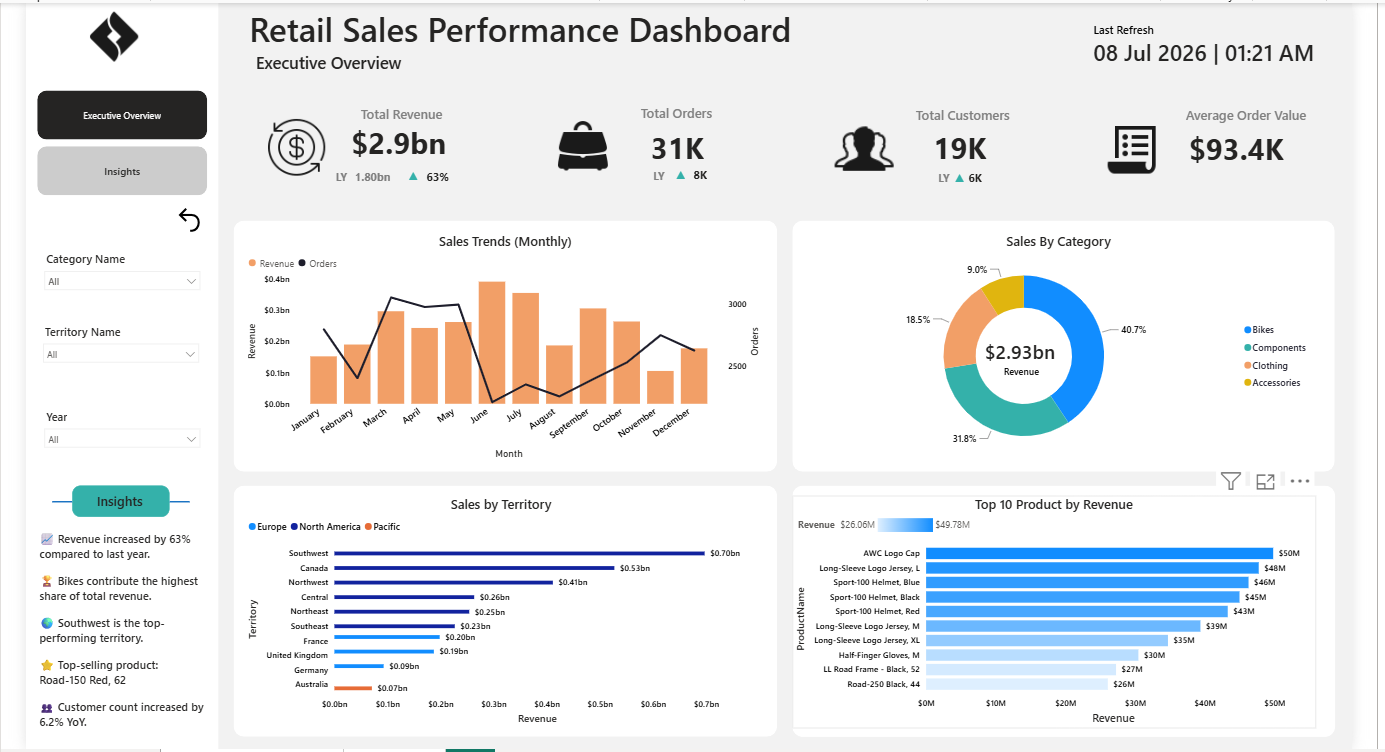

What the dashboard file says about the page in this screenshot:
{"tool":"powerbi","page":{"name":"Executive Overview","canvas":[1920,1080],"ordinal":0},"visuals":[{"type":"shape","box":[1109.4,697.8,786.3,364.3],"z":0},{"type":"shape","box":[702.5,121.2,385,179.2],"z":1000},{"type":"shape","box":[0,0,278.7,1080.4],"z":2000},{"type":"image","box":[68.8,12.7,117.6,72.4],"z":3000},{"type":"textbox","box":[300.4,0,830.6,85.1],"z":4000},{"type":"shape","box":[300.4,121.2,380,179.2],"z":5000},{"type":"cardVisual","fields":{"Data":["gold vw_Customers.Total Orders"]},"box":[829.5,163.6,229.8,88.7],"z":6000},{"type":"textbox","box":[885.6,141.9,143,43.4],"z":7000},{"type":"cardVisual","fields":{"Data":["DimDate.Sales_Icon"]},"box":[911.3,219.3,72.4,57.9],"z":8000},{"type":"cardVisual","fields":{"Data":["DimDate.Orders LY"]},"box":[933.1,215.7,85.1,63.3],"z":9000},{"type":"textbox","box":[902.3,233.8,34.4,43.4],"z":10000},{"type":"shape","box":[1109.5,121.2,385,179.2],"z":11000},{"type":"shape","box":[1516.5,121.2,385,179.2],"z":12000},{"type":"cardVisual","fields":{"Data":["gold vw_Customers.Total Revenue"]},"box":[424.5,156,229.8,88.7],"z":13000},{"type":"textbox","box":[479.6,143,143,43.4],"z":14000},{"type":"cardVisual","fields":{"Data":["DimDate.Sales YoY %"]},"box":[550.5,208.8,92.3,83.2],"z":15000},{"type":"cardVisual","fields":{"Data":["DimDate.Sales_Icon"]},"box":[525.1,221.5,72.4,57.9],"z":16000},{"type":"cardVisual","fields":{"Data":["DimDate.Sales LY"]},"box":[443.7,214.2,117.6,72.4],"z":17000},{"type":"textbox","box":[443.7,235.9,34.4,43.4],"z":18000},{"type":"cardVisual","fields":{"Data":["gold vw_Customers.Total Customers"]},"box":[1237.7,163.5,229.8,88.7],"z":19000},{"type":"textbox","box":[1283,144.8,150.2,61.5],"z":20000},{"type":"cardVisual","fields":{"Data":["DimDate.Customers LY"]},"box":[1314.9,215.3,117.6,72.4],"z":21000},{"type":"textbox","box":[1315.6,237.1,36.2,43.4],"z":22000},{"type":"cardVisual","fields":{"Data":["gold vw_Customers.Average Order Value"]},"box":[1637.2,164.9,229.8,88.7],"z":23000},{"type":"textbox","box":[1673.6,144,193.6,59.7],"z":24000},{"type":"cardVisual","fields":{"Data":["DimDate.customer_Icon"]},"box":[1314.9,222.6,72.4,57.9],"z":25000},{"type":"image","box":[340.2,166.5,103.2,85.1],"z":26000},{"type":"image","box":[754.6,168.3,103.2,85.1],"z":27000},{"type":"image","box":[1161.8,170.1,103.2,85.1],"z":28000},{"type":"image","box":[1549.1,170.1,103.2,85.1],"z":29000},{"type":"shape","box":[300.4,314.9,787.2,363.7],"z":30000},{"type":"shape","box":[1109.3,314.9,785.4,363.7],"z":31000},{"type":"shape","box":[300.4,698.5,787.2,363.7],"z":32000},{"type":"lineStackedColumnComboChart","title":"Sales Trends (Monthly)","fields":{"Y":["gold vw_Customers.Total Revenue"],"Y2":["gold vw_Customers.Total Orders"],"Category":["DimDate.Month"]},"box":[316.7,331.2,754.6,334.8],"z":33000},{"type":"donutChart","title":"Sales By Category","fields":{"Y":["gold vw_Customers.Total Revenue"],"Category":["gold vw_Products.CategoryName"]},"box":[1122,331.2,745.6,334.8],"z":34000},{"type":"clusteredBarChart","title":"Sales by Territory","fields":{"Y":["gold vw_Customers.Total Revenue"],"Series":["gold vw_Territory.Group"],"Category":["gold vw_Territory.TerritoryName"]},"box":[316.7,713,742,336.6],"z":35000},{"type":"clusteredBarChart","title":"Top 10 Product by Revenue","fields":{"Y":["gold vw_Customers.Total Revenue"],"Category":["gold vw_Products.ProductName"]},"box":[1109.4,712.2,757.5,337.6],"z":36000},{"type":"cardVisual","fields":{"Data":["gold vw_Customers.Total Revenue"]},"box":[1359.1,466.9,164.7,92.3],"z":37000},{"type":"slicer","fields":{"Values":["gold vw_Products.CategoryName"]},"box":[16.3,354.7,246.1,70.6],"z":38000},{"type":"slicer","fields":{"Values":["gold vw_Territory.TerritoryName"]},"box":[14.5,459.7,246.1,76],"z":39000},{"type":"pageNavigator","box":[16.3,126.7,246.1,153.8],"z":40000},{"type":"slicer","fields":{"Values":["DimDate.Year"]},"box":[16.3,582.7,246.1,83.2],"z":41000},{"type":"textbox","box":[327.5,65.1,300.4,56.1],"z":42000},{"type":"textbox","box":[14.5,760.1,247.9,302.2],"z":43000},{"type":"textbox","box":[67,698.5,141.2,45.2],"z":44000},{"type":"shape","box":[38,678.6,29,86.9],"z":45000},{"type":"shape","box":[208.1,678.6,29,86.9],"z":46000},{"type":"actionButton","box":[209.9,291.4,52.5,45.2],"z":47000},{"type":"cardVisual","fields":{"Data":["Min(Last Refresh.Last Refresh)"]},"box":[1516.5,12.7,378.2,94.1],"z":48000}]}

Visuals, with their boxes on the page's 1920x1080 design canvas (x1, y1, x2, y2). These are canvas units, not pixel positions in the 1385x752 screenshot, which may show the page scaled, cropped or inside an application window:
shape: (1109, 698, 1896, 1062)
shape: (702, 121, 1088, 300)
shape: (0, 0, 279, 1080)
image: (69, 13, 186, 85)
textbox: (300, 0, 1131, 85)
shape: (300, 121, 680, 300)
cardVisual - gold vw_Customers.Total Orders: (830, 164, 1059, 252)
textbox: (886, 142, 1029, 185)
cardVisual - DimDate.Sales_Icon: (911, 219, 984, 277)
cardVisual - DimDate.Orders LY: (933, 216, 1018, 279)
textbox: (902, 234, 937, 277)
shape: (1110, 121, 1494, 300)
shape: (1516, 121, 1902, 300)
cardVisual - gold vw_Customers.Total Revenue: (424, 156, 654, 245)
textbox: (480, 143, 623, 186)
cardVisual - DimDate.Sales YoY %: (550, 209, 643, 292)
cardVisual - DimDate.Sales_Icon: (525, 222, 598, 279)
cardVisual - DimDate.Sales LY: (444, 214, 561, 287)
textbox: (444, 236, 478, 279)
cardVisual - gold vw_Customers.Total Customers: (1238, 164, 1468, 252)
textbox: (1283, 145, 1433, 206)
cardVisual - DimDate.Customers LY: (1315, 215, 1432, 288)
textbox: (1316, 237, 1352, 280)
cardVisual - gold vw_Customers.Average Order Value: (1637, 165, 1867, 254)
textbox: (1674, 144, 1867, 204)
cardVisual - DimDate.customer_Icon: (1315, 223, 1387, 280)
image: (340, 166, 443, 252)
image: (755, 168, 858, 253)
image: (1162, 170, 1265, 255)
image: (1549, 170, 1652, 255)
shape: (300, 315, 1088, 679)
shape: (1109, 315, 1895, 679)
shape: (300, 698, 1088, 1062)
"Sales Trends (Monthly)" lineStackedColumnComboChart: (317, 331, 1071, 666)
"Sales By Category" donutChart: (1122, 331, 1868, 666)
"Sales by Territory" clusteredBarChart: (317, 713, 1059, 1050)
"Top 10 Product by Revenue" clusteredBarChart: (1109, 712, 1867, 1050)
cardVisual - gold vw_Customers.Total Revenue: (1359, 467, 1524, 559)
slicer - gold vw_Products.CategoryName: (16, 355, 262, 425)
slicer - gold vw_Territory.TerritoryName: (14, 460, 261, 536)
pageNavigator: (16, 127, 262, 280)
slicer - DimDate.Year: (16, 583, 262, 666)
textbox: (328, 65, 628, 121)
textbox: (14, 760, 262, 1062)
textbox: (67, 698, 208, 744)
shape: (38, 679, 67, 766)
shape: (208, 679, 237, 766)
actionButton: (210, 291, 262, 337)
cardVisual - Min(Last Refresh.Last Refresh): (1516, 13, 1895, 107)
